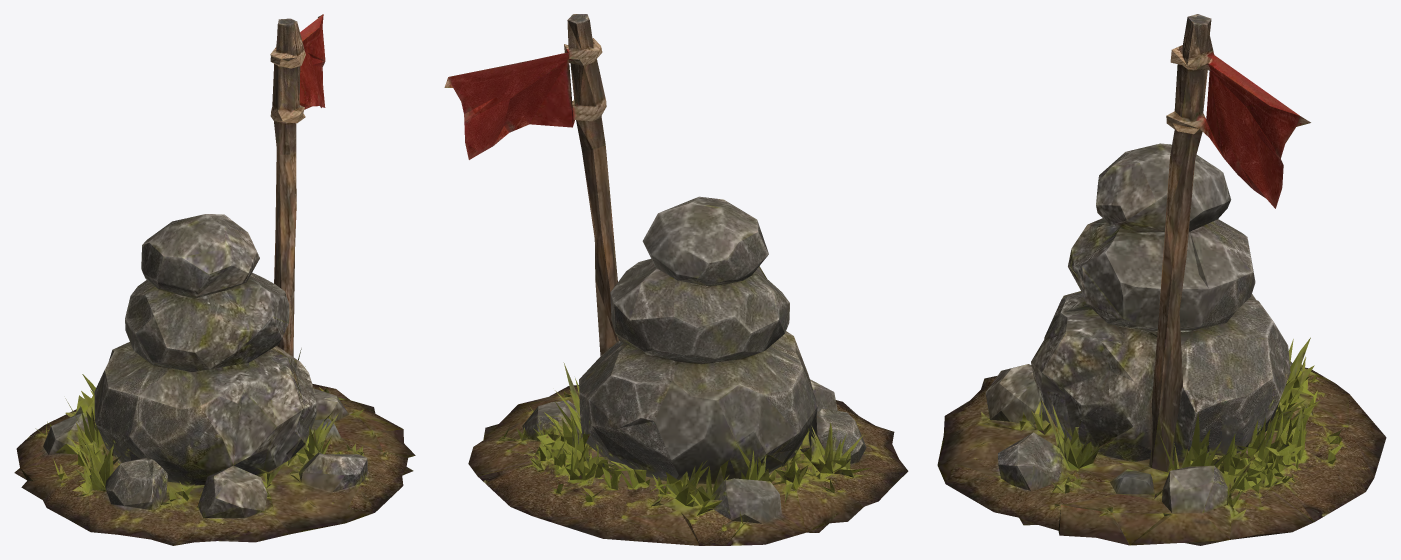
The model's file is mojon.glb.
3 renders of one model, left to right at view 1: azimuth 30°, elevation 25°; view 2: azimuth 150°, elevation 25°; view 3: azimuth 270°, elevation 25°, orthographic. The views are drawn at different scales.
Visible parts, largest first — view 1: output_unwrapped; view 2: output_unwrapped; view 3: output_unwrapped.
Boxes of the visible parts, bbox=[...] form: output_unwrapped: bbox=[14, 14, 415, 545]; output_unwrapped: bbox=[444, 14, 908, 545]; output_unwrapped: bbox=[937, 14, 1386, 545].
Size of the model in its own units: 1.45 by 1.62 by 1.38.
Materials: 1 (1 with a texture image).
